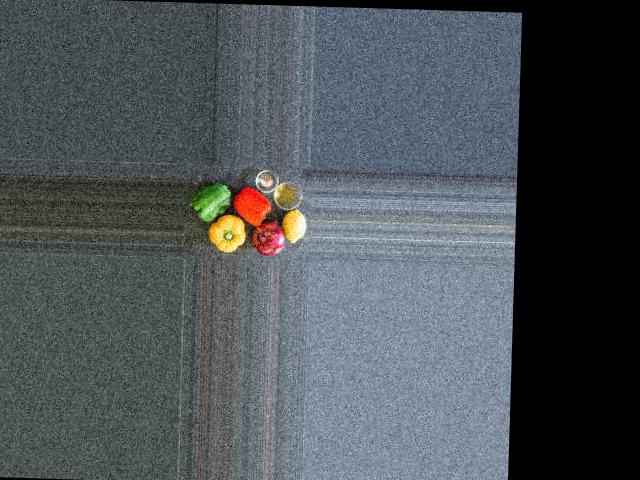bell_pepper: (233, 185, 271, 227)
